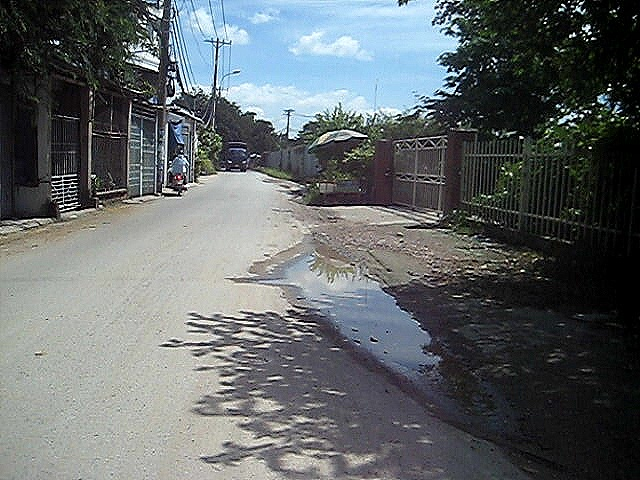hole: (274, 236, 495, 414)
